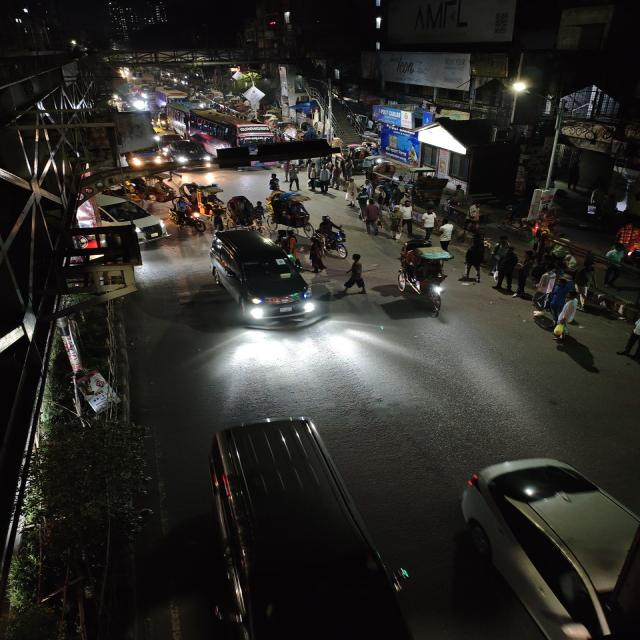bus: (205, 228, 318, 326), (166, 102, 274, 150)
car: (193, 408, 386, 640), (442, 448, 640, 640), (77, 195, 171, 245), (160, 138, 214, 170)
motorcycle: (314, 215, 347, 256)
pedestrian: (548, 294, 586, 336), (616, 306, 640, 367), (512, 248, 539, 298), (492, 246, 522, 290), (534, 266, 566, 306), (341, 253, 369, 294), (461, 241, 489, 281), (571, 264, 597, 304), (393, 200, 417, 240), (306, 234, 329, 274), (362, 198, 384, 236), (384, 202, 402, 242), (437, 218, 458, 252), (491, 236, 512, 262), (420, 208, 437, 240), (308, 170, 326, 196), (315, 166, 330, 195), (266, 172, 284, 196), (286, 164, 302, 190), (343, 184, 359, 208), (354, 185, 369, 210), (561, 251, 578, 273)
pickup_van: (124, 145, 161, 169)
rickshaw: (391, 240, 454, 314), (270, 197, 317, 234), (226, 196, 272, 232), (168, 200, 206, 237)
